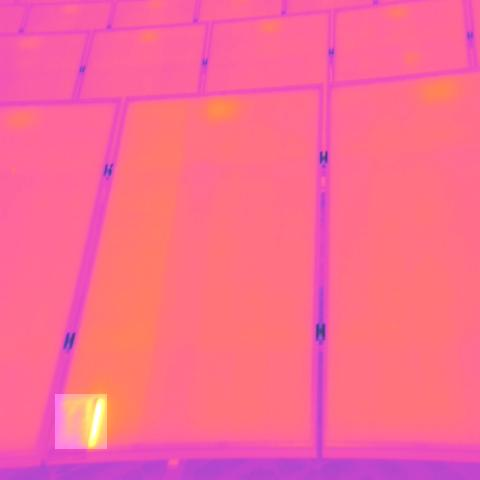fault: (55, 394, 107, 449)
